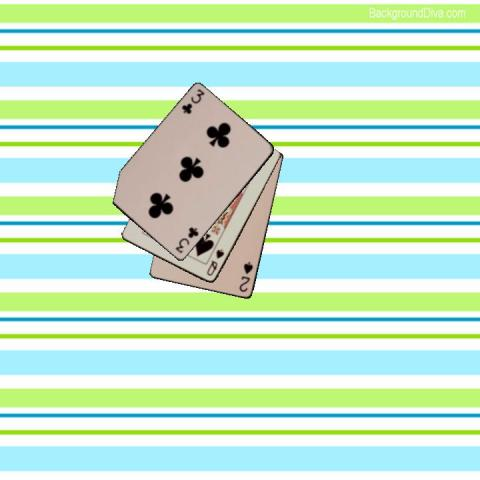2s: (236, 259, 255, 293)
3c: (173, 224, 200, 255), (179, 86, 206, 116)
Qs: (203, 246, 226, 277)
